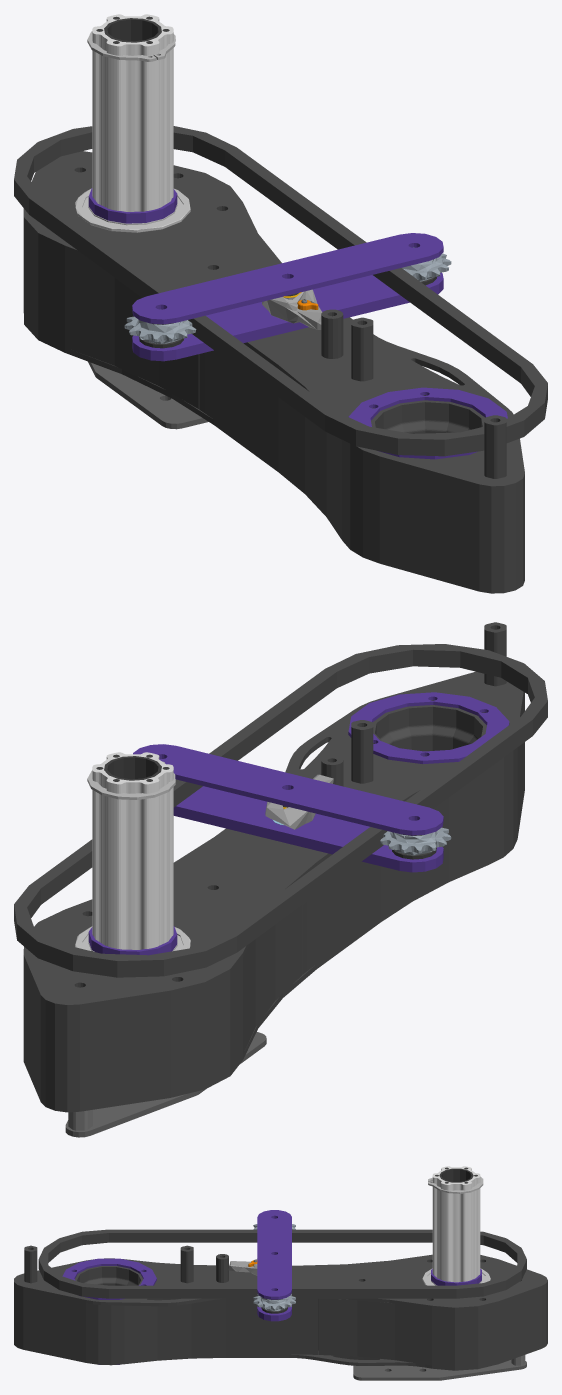
3 renders of one model, top to bottom at view 1: azimuth 30°, elevation 25°; view 2: azimuth 150°, elevation 25°; view 3: azimuth 270°, elevation 25°, orthographic. The views are drawn at different scales.
Parts seen in each view (by area): view 1: g1_c1, g1_c8, g1_c9, g1_c6, g1_c5, g1_c0, g1_c7, g1_c12; view 2: g1_c1, g1_c8, g1_c9, g1_c6, g1_c7, g1_c5, g1_c12, g1_c2; view 3: g1_c1, g1_c9, g1_c8, g1_c6, g1_c7, g1_c5, g1_c12.
Boxes of the visible parts, bbox=[...] form: g1_c1: bbox=[14, 126, 547, 593]; g1_c8: bbox=[88, 188, 507, 459]; g1_c9: bbox=[92, 14, 173, 211]; g1_c6: bbox=[88, 361, 208, 429]; g1_c5: bbox=[124, 253, 451, 343]; g1_c0: bbox=[75, 188, 190, 232]; g1_c7: bbox=[96, 16, 436, 348]; g1_c12: bbox=[262, 289, 322, 329]; g1_c1: bbox=[14, 622, 547, 1112]; g1_c8: bbox=[88, 692, 509, 955]; g1_c9: bbox=[92, 752, 173, 949]; g1_c6: bbox=[65, 1032, 266, 1137]; g1_c7: bbox=[96, 754, 436, 859]; g1_c5: bbox=[380, 827, 451, 855]; g1_c12: bbox=[265, 774, 333, 829]; g1_c2: bbox=[87, 761, 175, 799]; g1_c1: bbox=[14, 1229, 547, 1370]; g1_c9: bbox=[432, 1166, 480, 1282]; g1_c8: bbox=[62, 1210, 481, 1364]; g1_c6: bbox=[353, 1360, 526, 1380]; g1_c7: bbox=[261, 1167, 477, 1313]; g1_c5: bbox=[253, 1224, 295, 1311]; g1_c12: bbox=[228, 1259, 257, 1275].
Bounding box in the file's own units: 0.1572 × 0.1536 × 0.3904.
